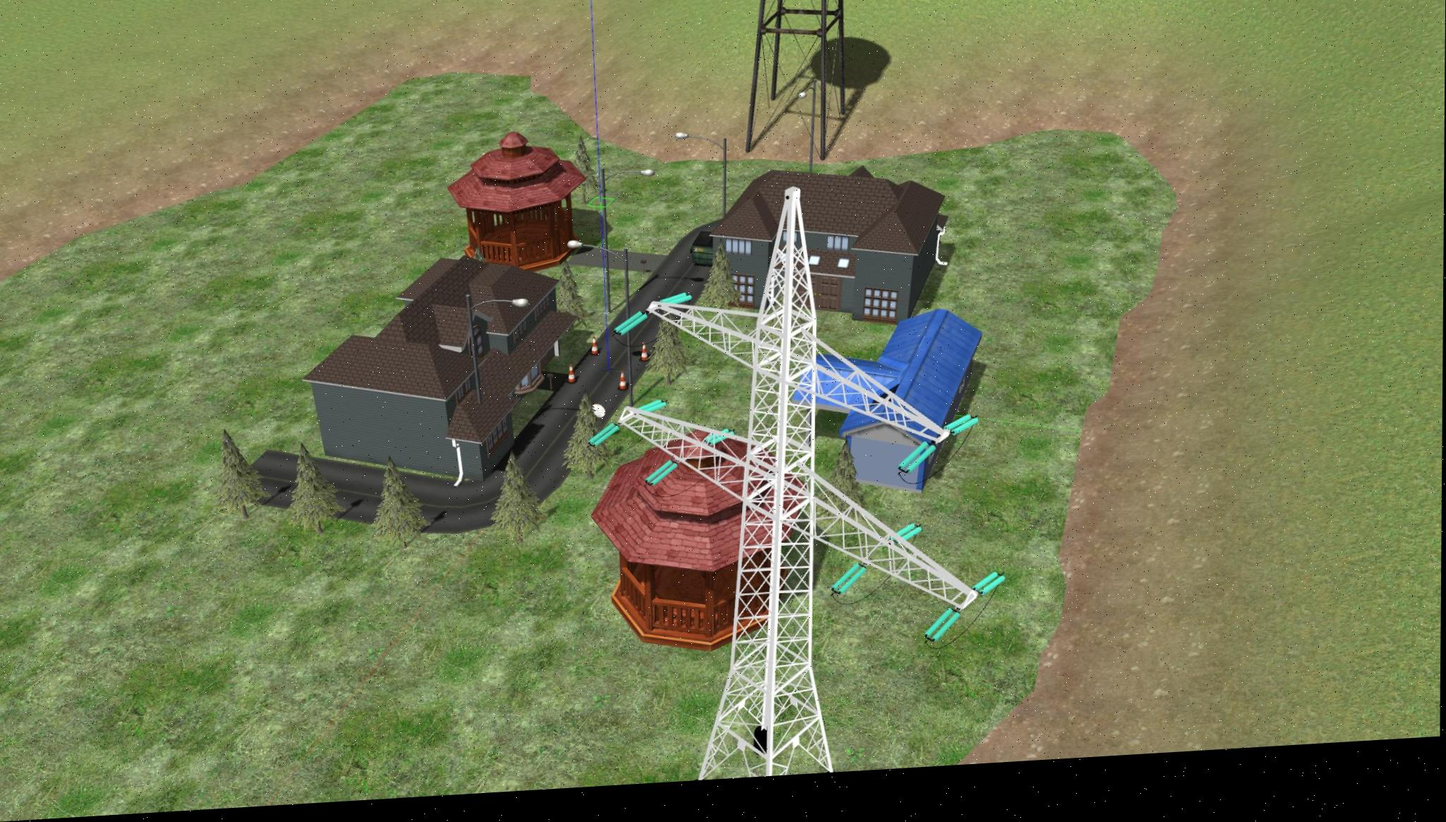tower: (604, 173, 983, 786)
